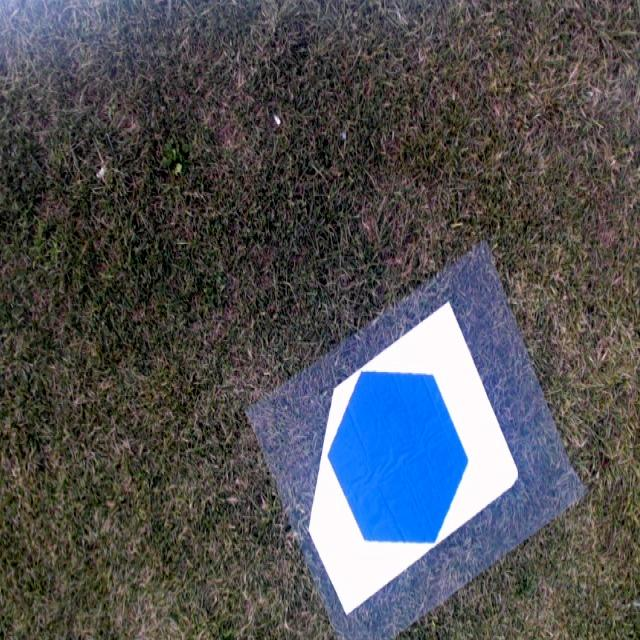blue_hexagon: (326, 371, 470, 544)
